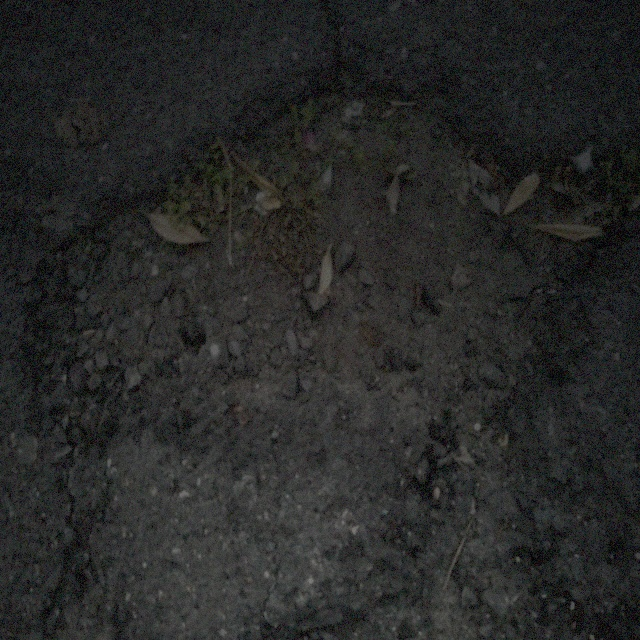pothole: (24, 61, 596, 518)
